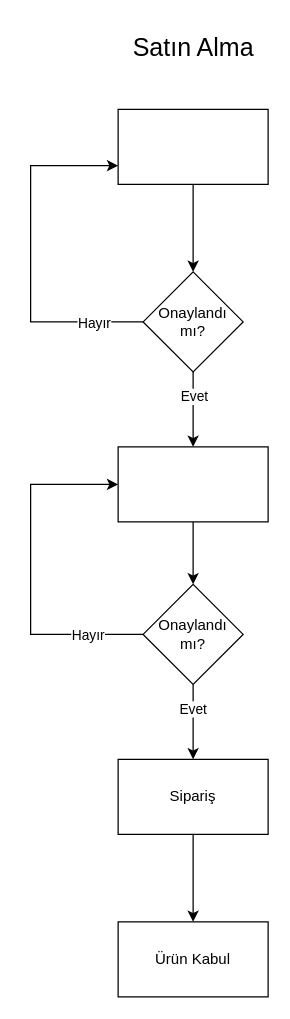
This 290x1019 diagram has some shape labels left out. Each missing label, with the centre of its shape:
"Talep" goes at point 192,146.
"Teklif Alma" goes at point 192,484.
